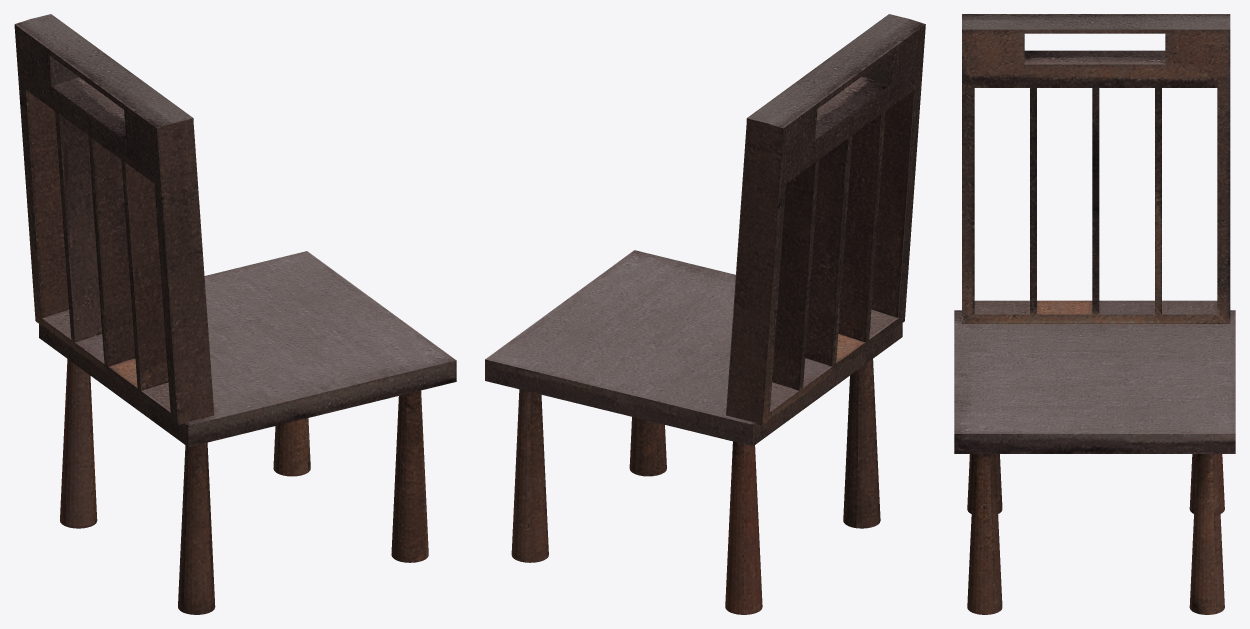
3 renders of one model, left to right at view 1: azimuth 30°, elevation 25°; view 2: azimuth 150°, elevation 25°; view 3: azimuth 270°, elevation 25°, orthographic. The views are drawn at different scales.
Parts seen in each view (by area): view 1: Node; view 2: Node; view 3: Node.
Part boxes in pixels (box(x1,y1,x2,y2)): Node: box(14, 14, 456, 614); Node: box(485, 14, 925, 614); Node: box(954, 14, 1235, 614).
Size of the model in its own units: 0.4316 by 0.7 by 0.378.
Materials: 1 (1 with a texture image).
